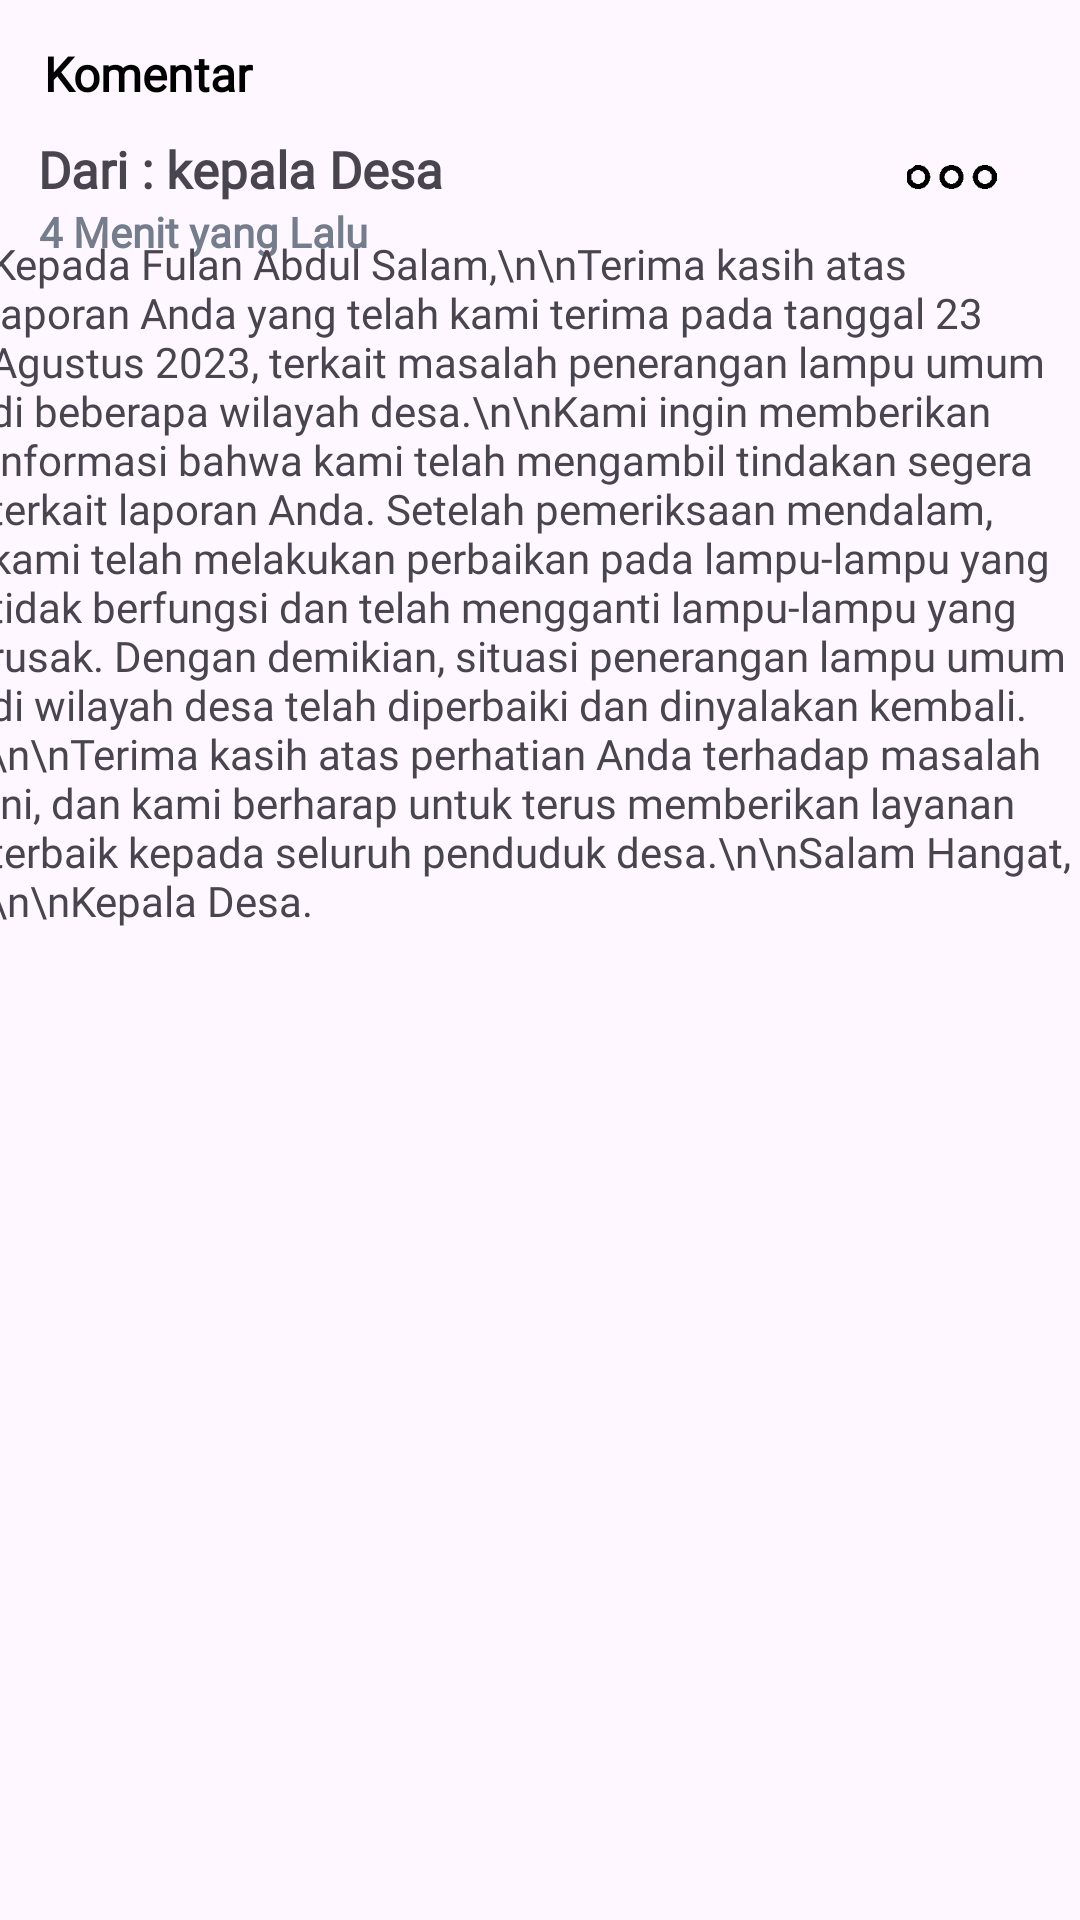

Icon bounding boxes for this 1080 × 1920 phone screenshot, format (x1, y1, x2, y2):
options: (907, 165, 997, 189)
